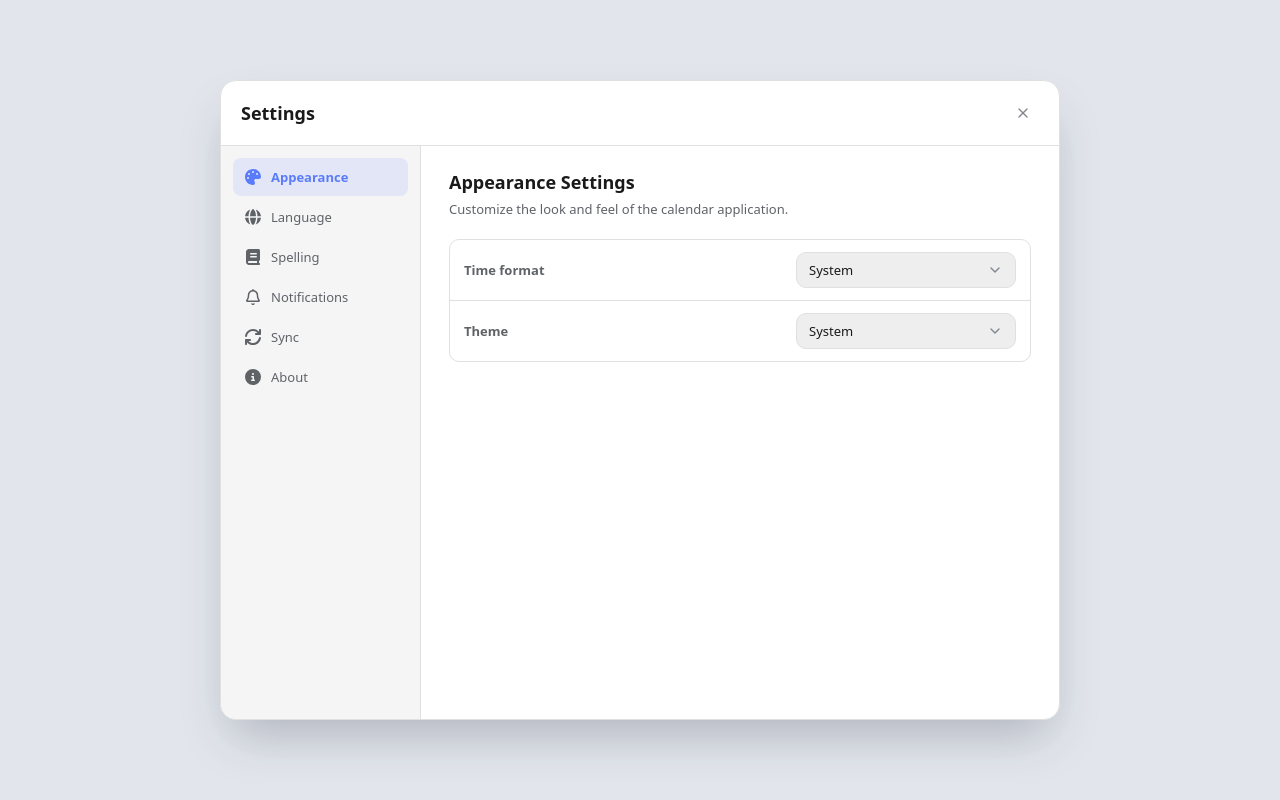
it: settings dialog › renders HTML release notes instead of showing escaped markup
The width and height of the screenshot is (1280, 800).
Click the button "About" at [320, 377], box [233,358,408,396]
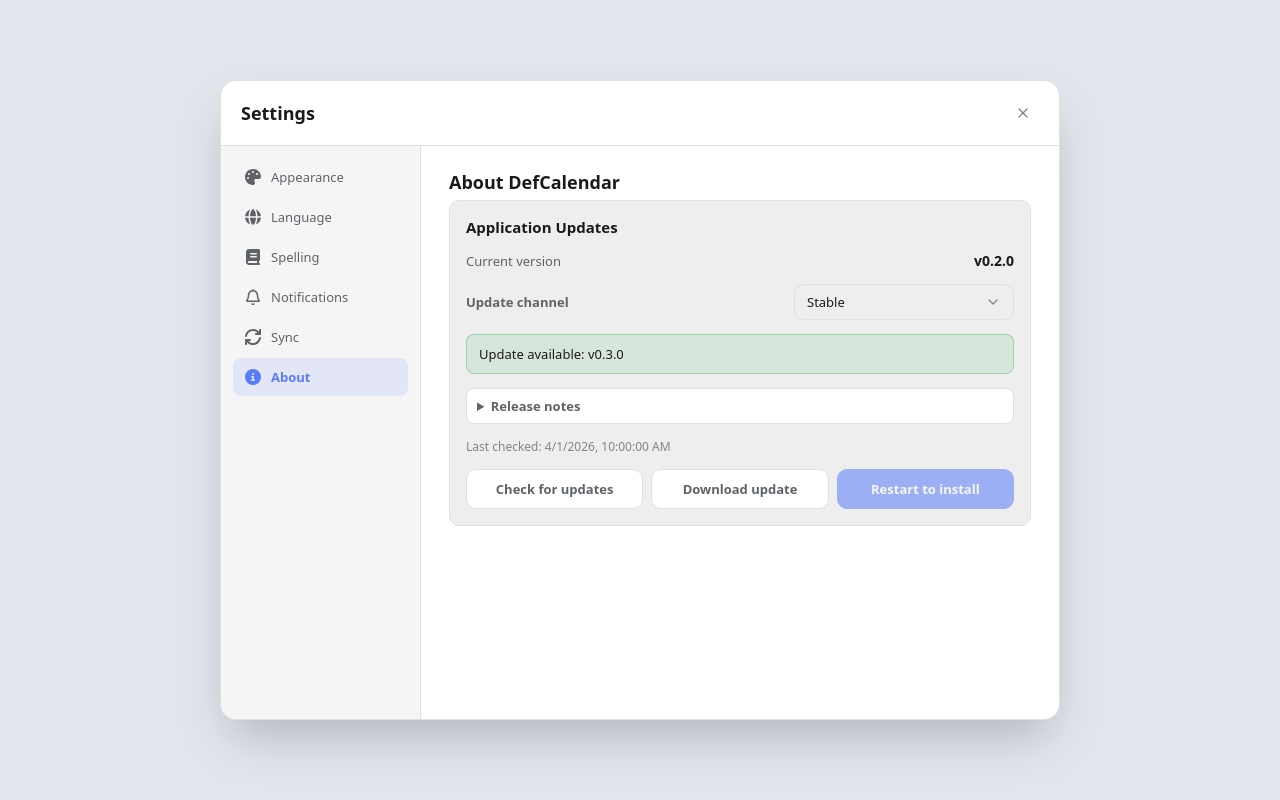
Click the heading "Release notes" at [536, 406], box [491,397,580,415]
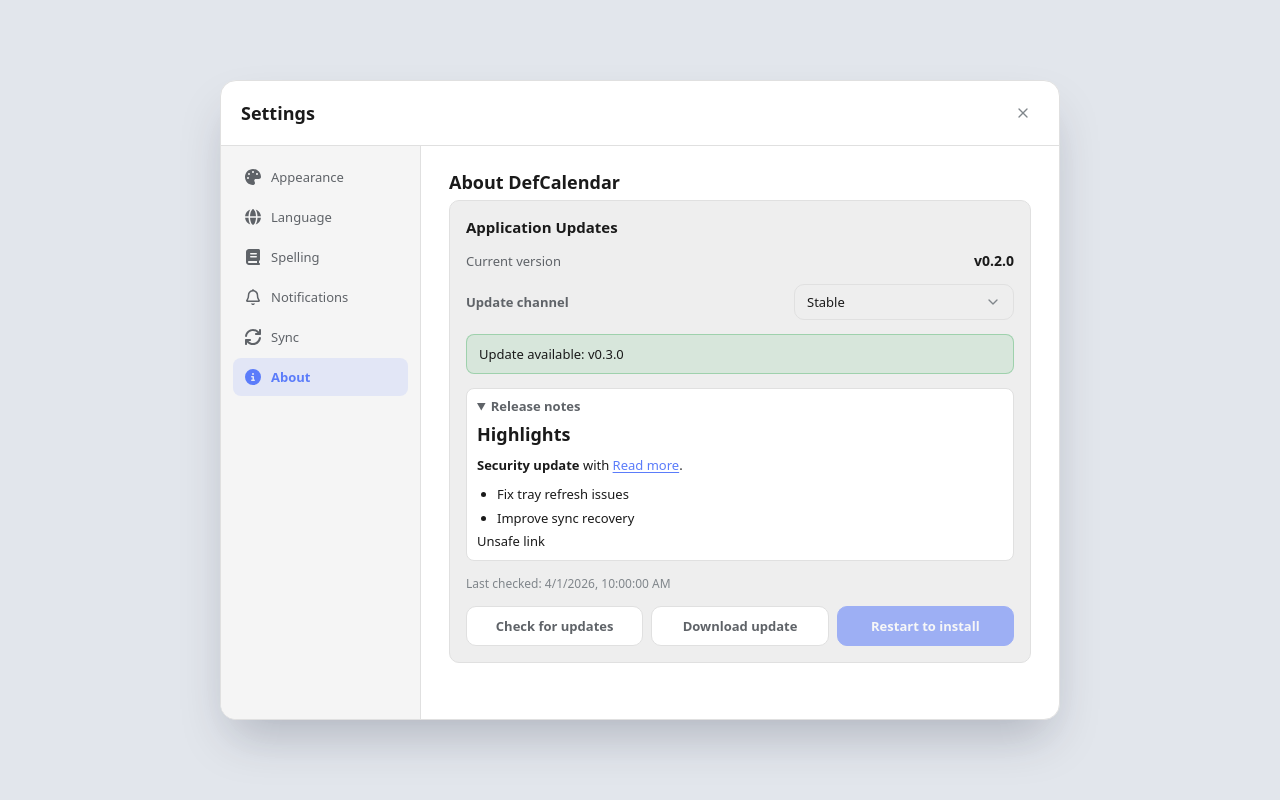
Expected: the text "Security update" is shown, [477,456,580,474]
Expected: the list item "Fix tray refresh issues" is shown, [497,485,629,503]
Expected: the list item "Improve sync recovery" is shown, [497,508,634,526]
